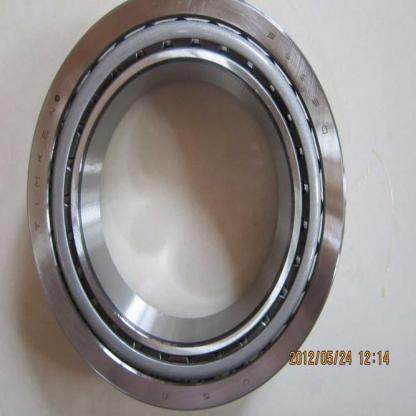FOD: (19, 0, 352, 413)
